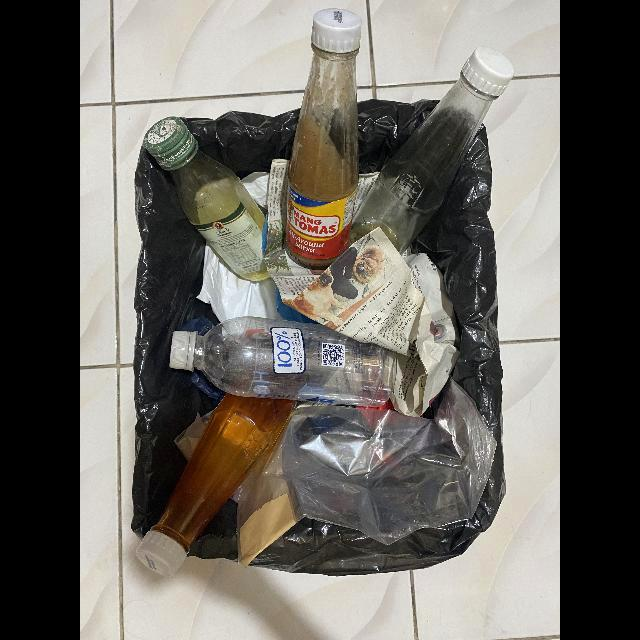glass_bottle: (351, 48, 513, 255), (134, 395, 298, 577), (143, 117, 270, 283), (285, 9, 362, 266)
paper: (284, 227, 462, 415)
plastic_bag: (283, 384, 497, 544), (230, 428, 309, 568), (198, 241, 282, 322)
plastic_bottle: (167, 317, 397, 409)
